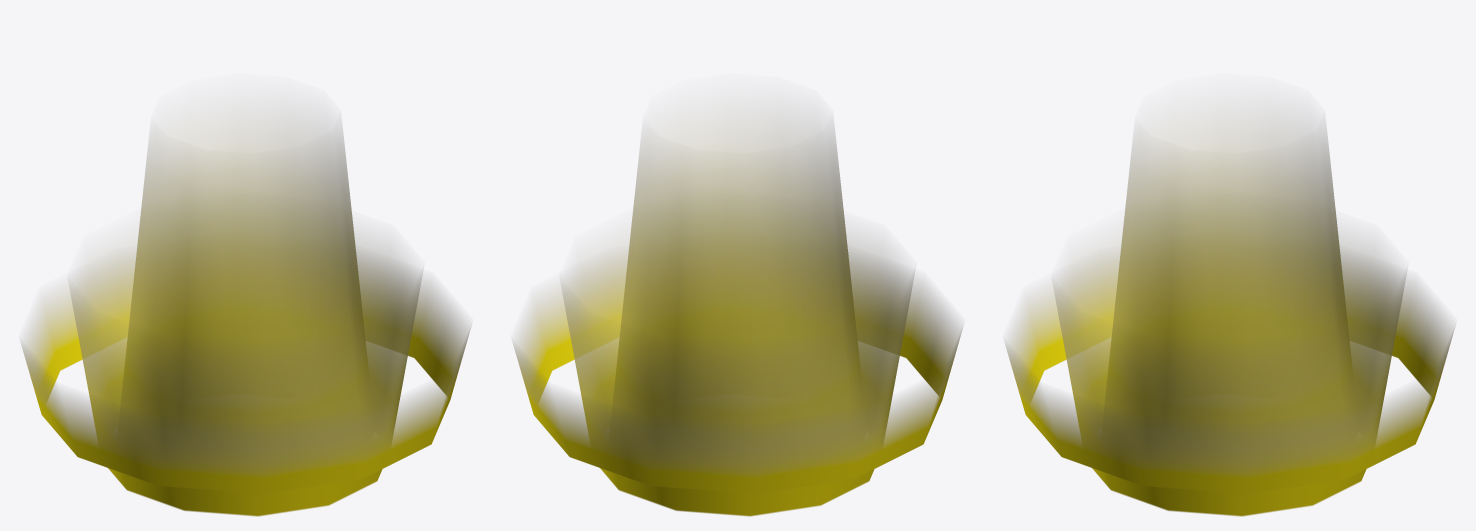
The model's file is portal-fade02.glb.
3 views of the same model, side by side, from view 1: azimuth 30°, elevation 25°; view 2: azimuth 150°, elevation 25°; view 3: azimuth 270°, elevation 25° (orthographic).
Parts seen in each view (by area): view 1: PortalFade02; view 2: PortalFade02; view 3: PortalFade02.
Part boxes in pixels (x1=…): PortalFade02: x1=20, y1=103, x2=471, y2=516; PortalFade02: x1=512, y1=103, x2=963, y2=516; PortalFade02: x1=1004, y1=103, x2=1455, y2=516.
Size of the model in its own units: 1.66 by 1.59 by 1.66.
Materials: 1 (1 with a texture image).
